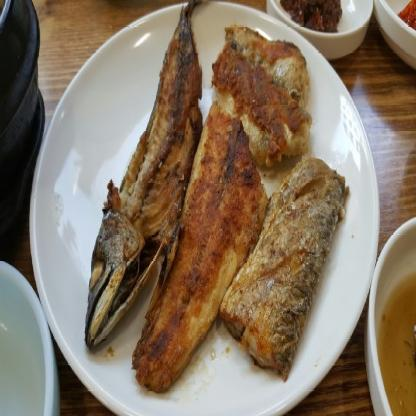Peixe: (70, 1, 208, 352)
